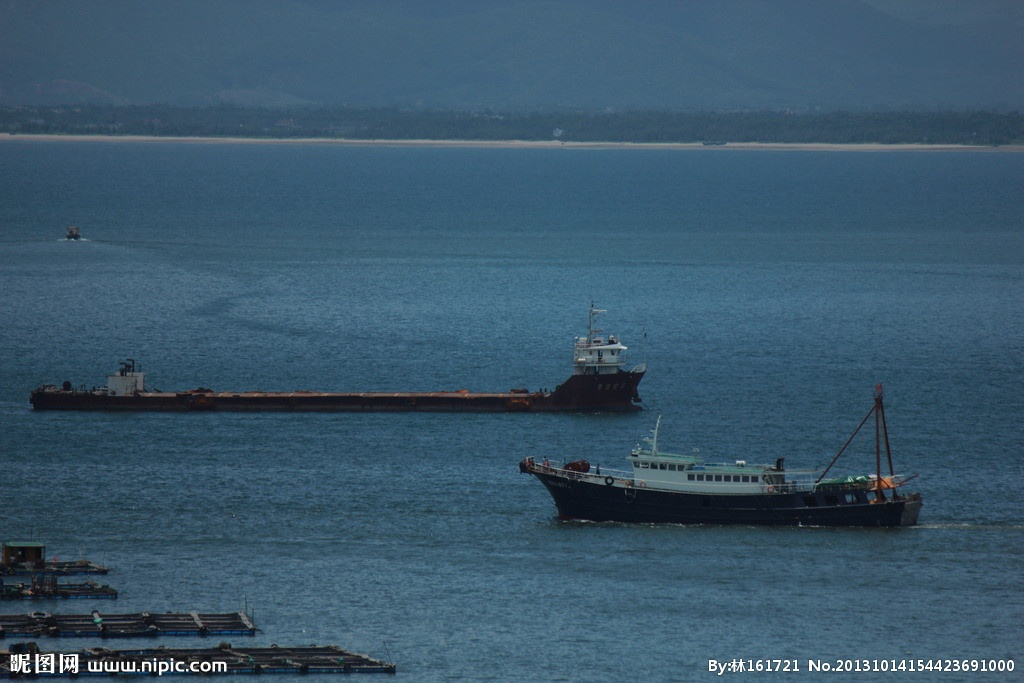Cargoship: (31, 295, 652, 416)
otherboat: (522, 380, 935, 530)
